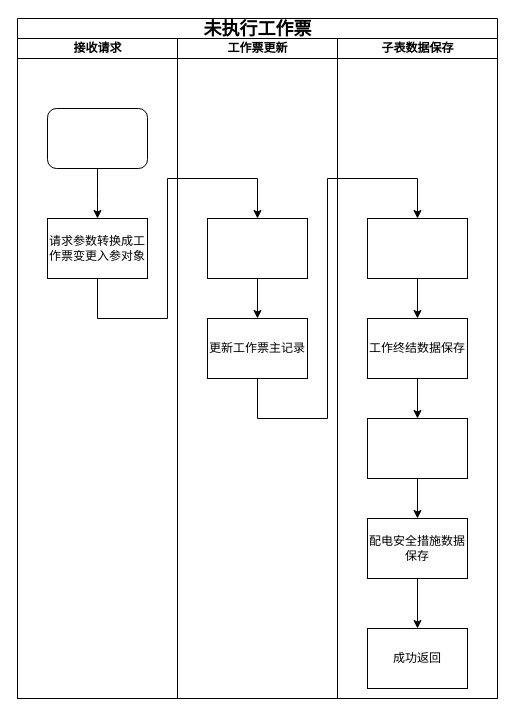
Image size: 515x716. Some labels were removed from this diagram. Here are the shapes that lost their labels. From the top down, the box of each, then its label:
(46, 108, 148, 168): 开始
(206, 218, 308, 278): 参数转换成工作票主记录
(366, 218, 468, 278): 安全措施记录保存
(366, 418, 468, 478): 工作许可数据保存
